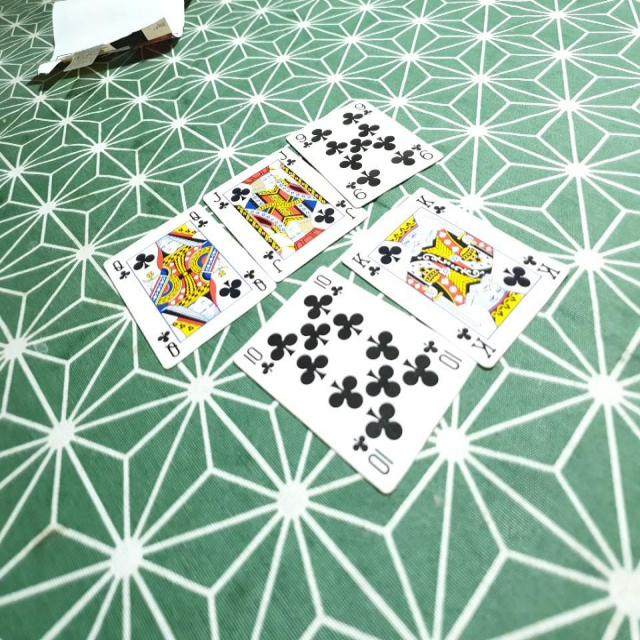10 Trefoils: (230, 265, 475, 499)
9 Trefoils: (285, 96, 444, 207)
J Trefoils: (201, 145, 370, 284)
K Trefoils: (337, 186, 569, 369)
Q Trefoils: (102, 202, 278, 372)
